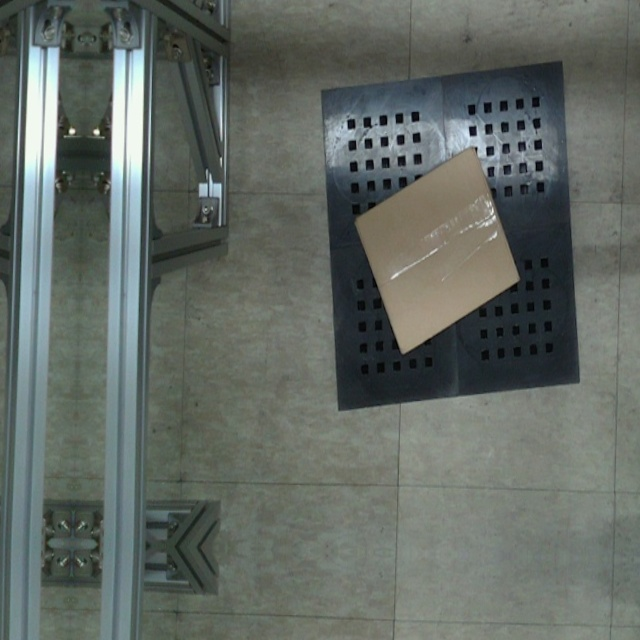box: (351, 145, 524, 360)
pallet: (305, 47, 600, 428)
